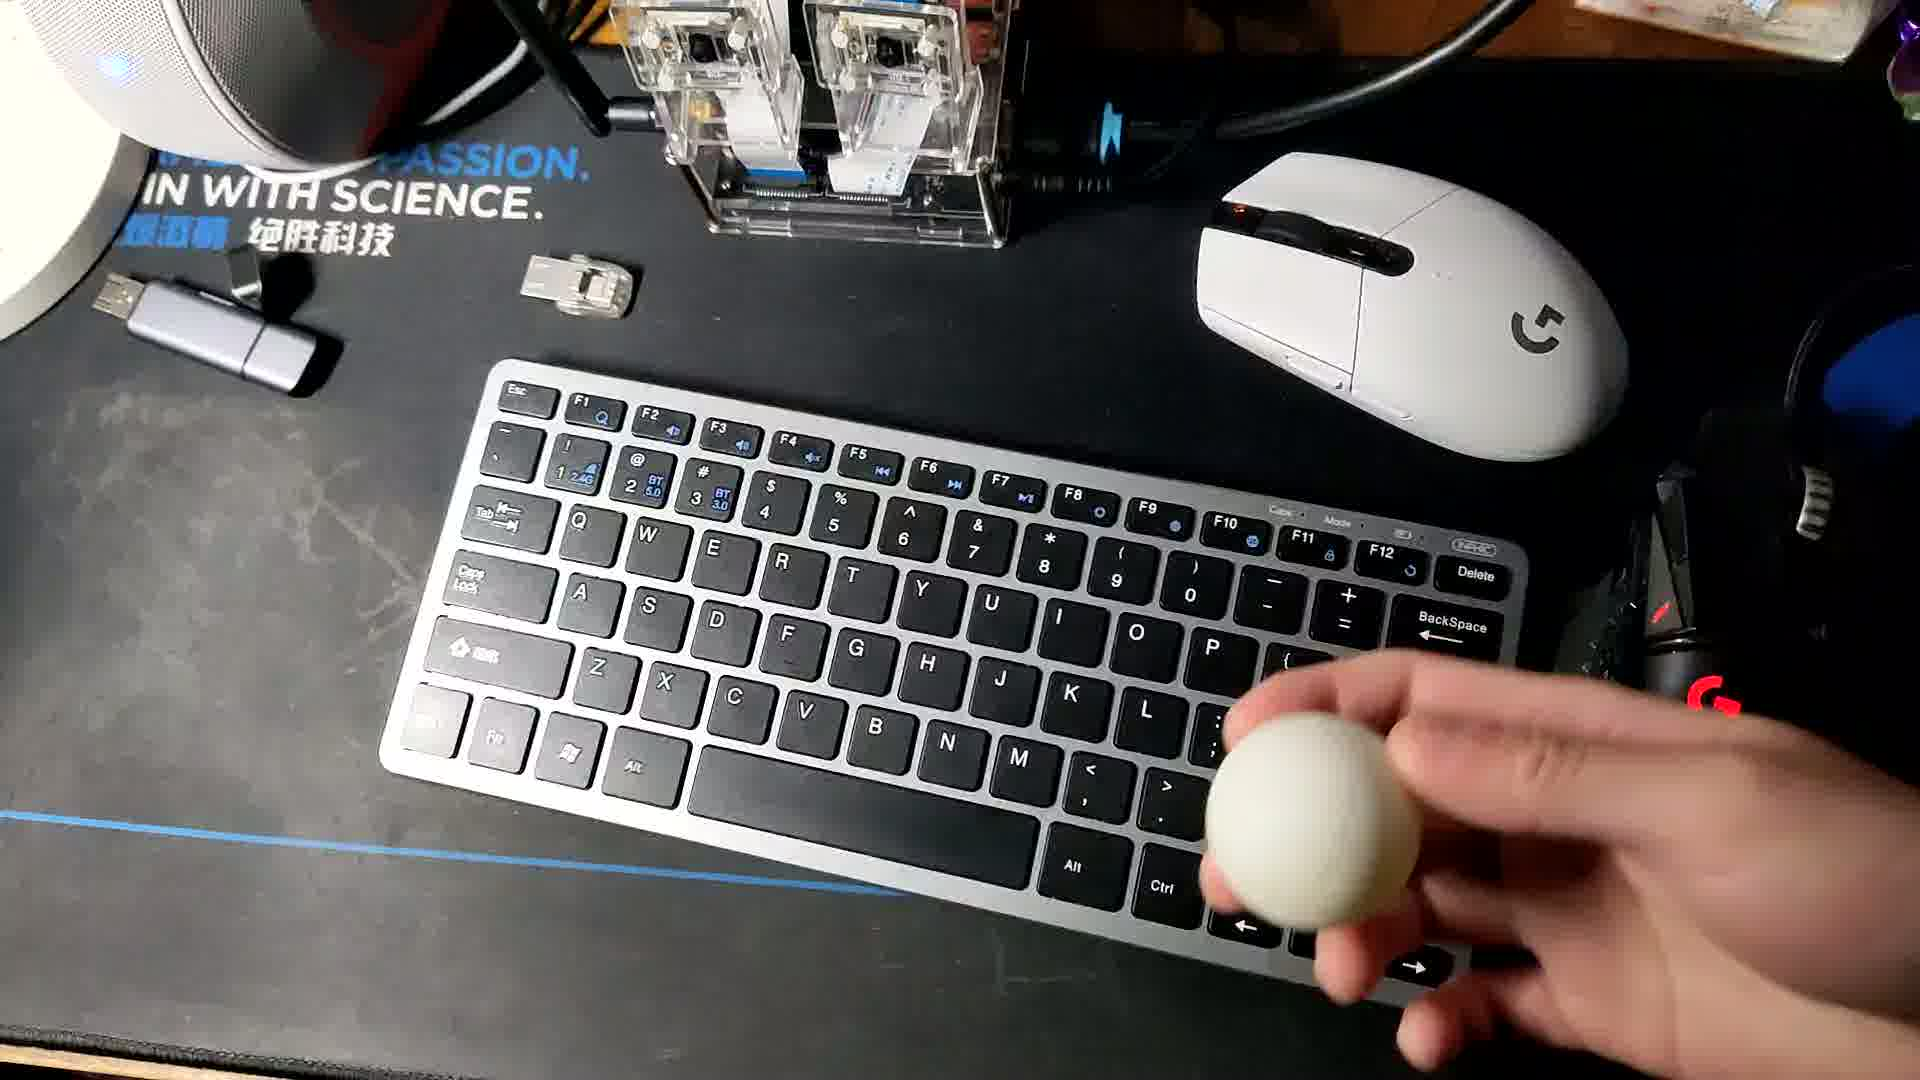Ball: (1197, 713, 1422, 938)
